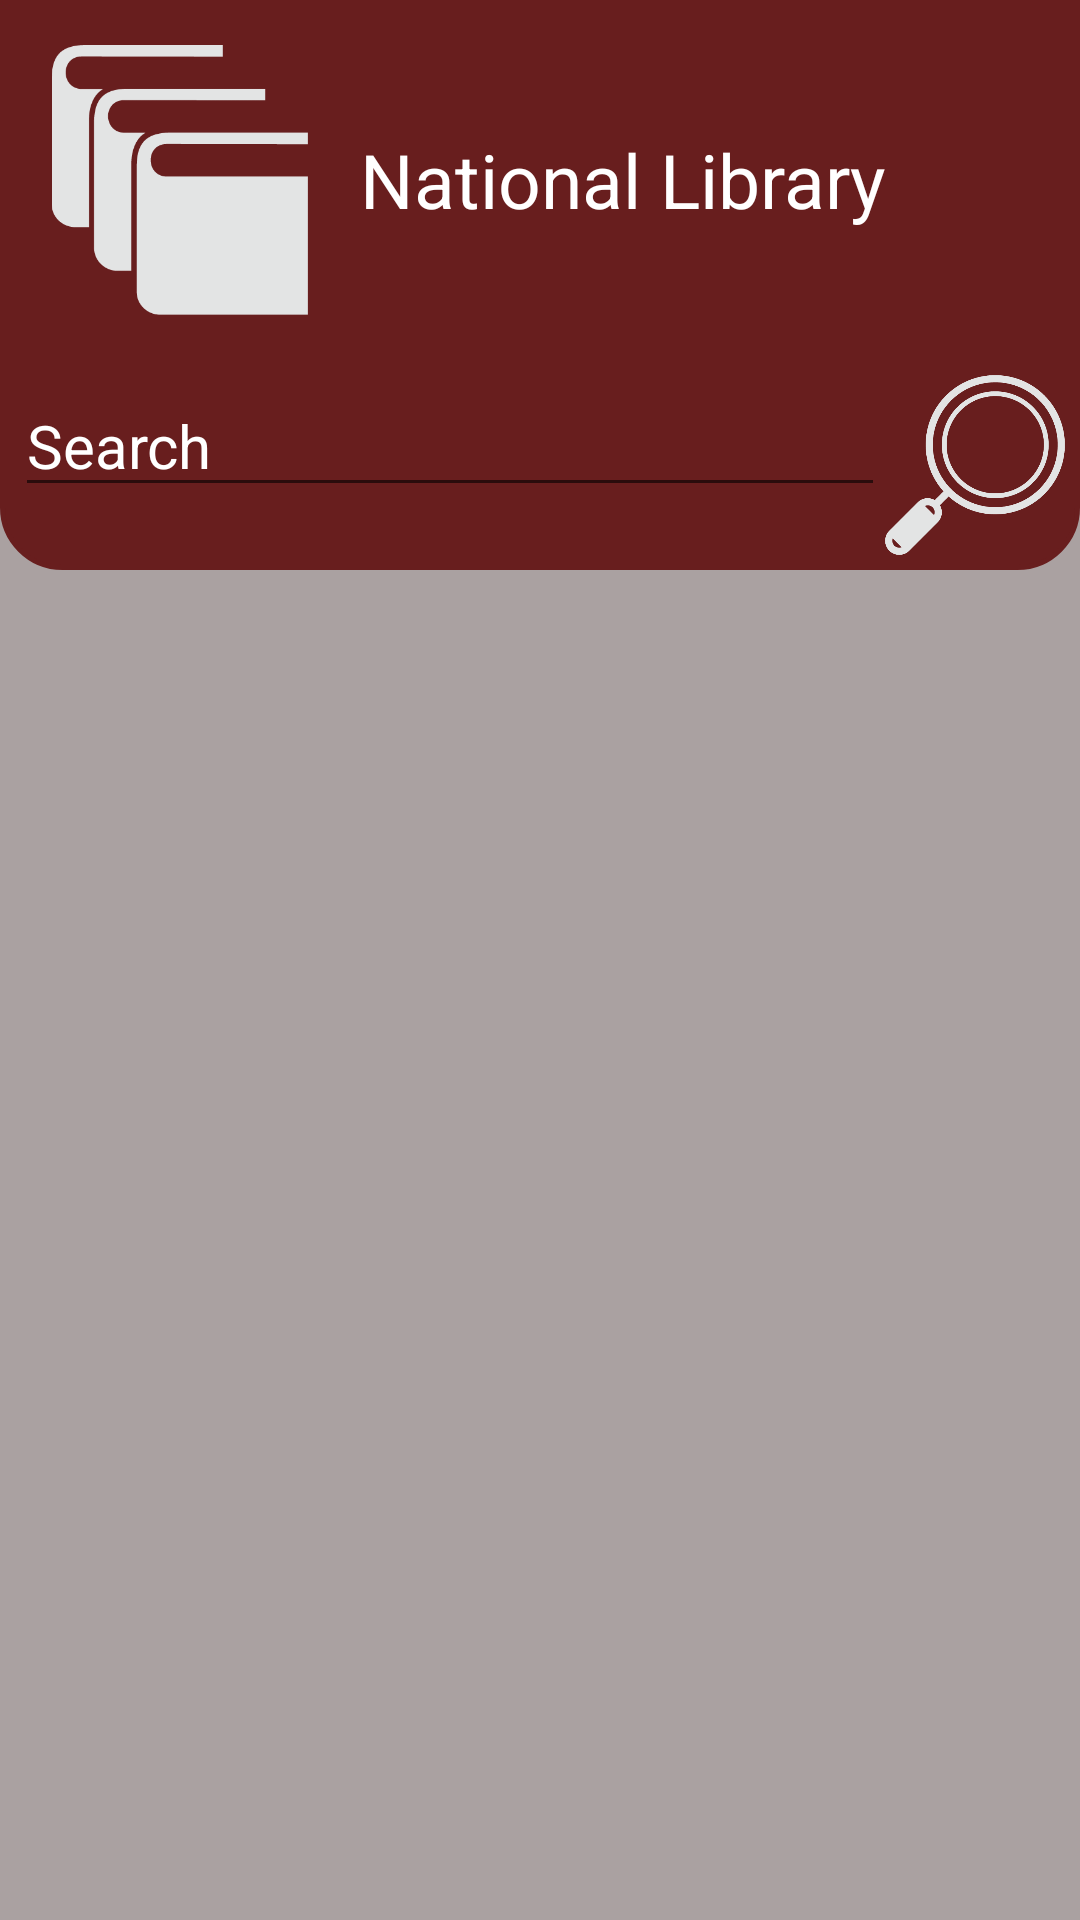

Where icons sit on this 1080w x 1920h app screen, as bbox=(x1, y1, x2, y2):
books with: bbox=(52, 45, 308, 315)
